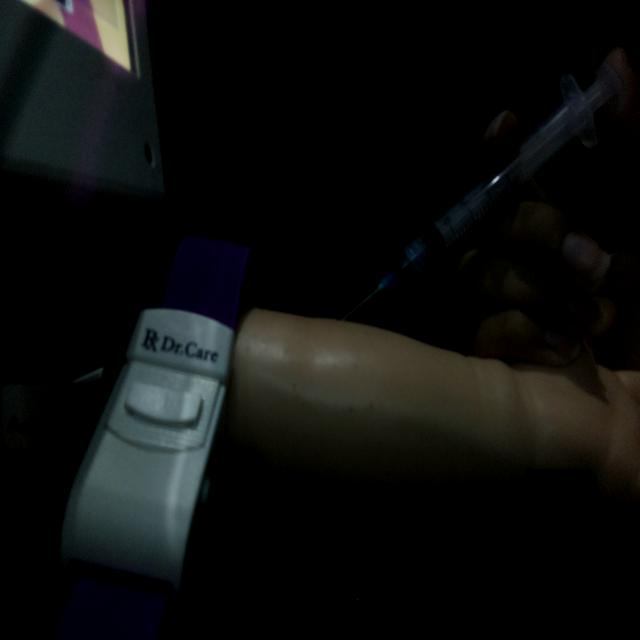30 degrees: (344, 62, 623, 322)
